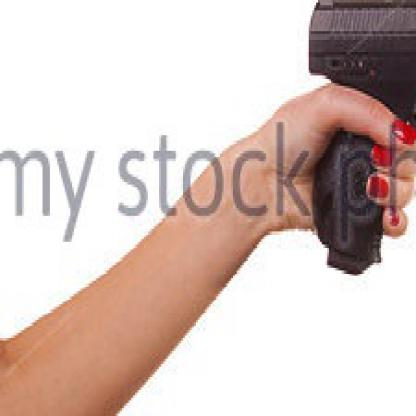gun: (302, 0, 414, 281)
